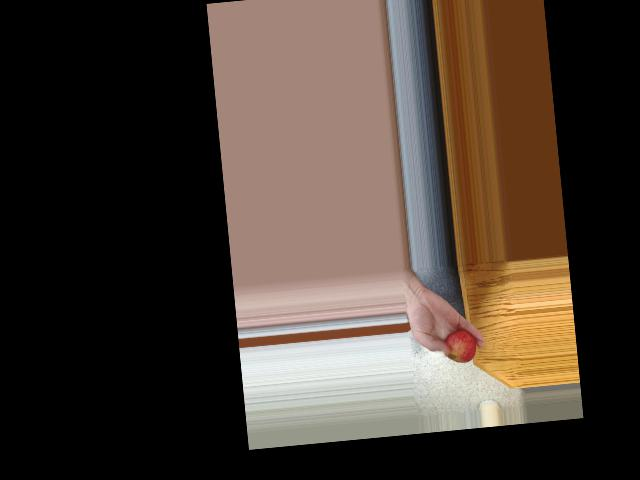apple: (441, 327, 476, 365)
